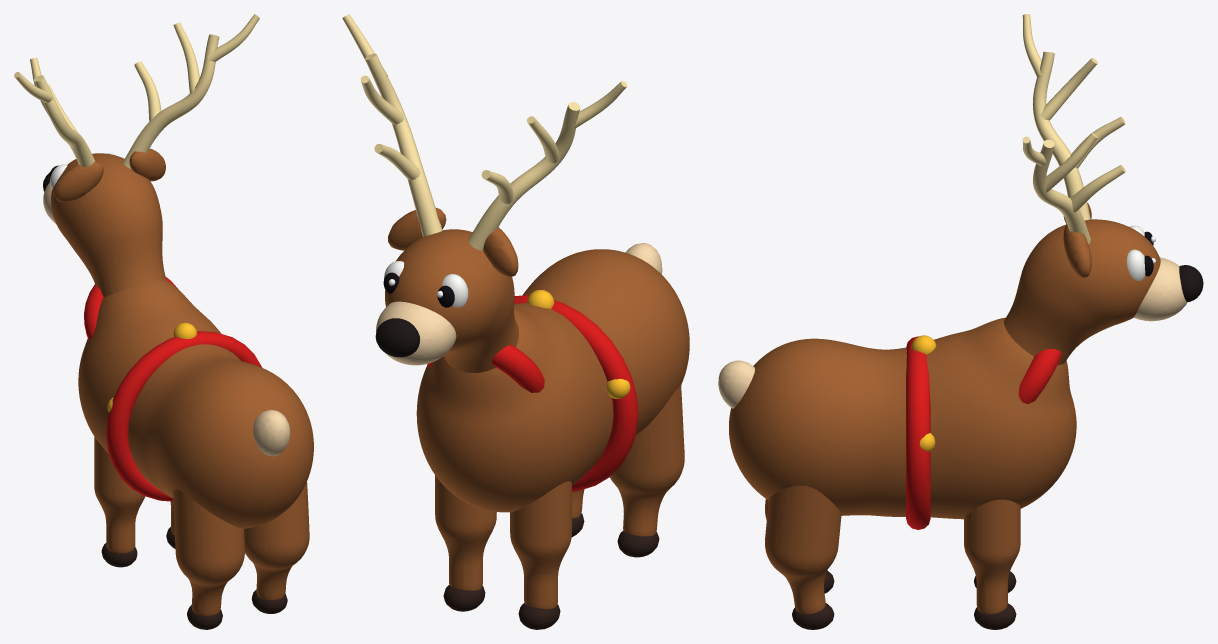
File: reindeer.glb
3 views of the same model, side by side, from view 1: azimuth 30°, elevation 25°; view 2: azimuth 150°, elevation 25°; view 3: azimuth 270°, elevation 25° (orthographic). The views are drawn at different scales.
Visible parts, largest first — view 1: DeerBody, HeadMesh, LegBL, Harness, LegBR, LegFL, Antler.001, TailMesh, EarMeshL, Antler, EarMeshR, Tine.004 (+7 smaller); view 2: DeerBody, HeadMesh, LegBL, LegFL, Harness, LegFR, Antler.001, Antler, Muzzle, Collar, DeerNose, EarMeshL (+12 smaller); view 3: DeerBody, HeadMesh, LegBR, LegFR, Harness, Antler, Muzzle, Antler.001, Collar, TailMesh, EarMeshR, Tine.001 (+5 smaller).
Boxes of the visible parts, box(x1,y1,x2,y2) form: DeerBody: box(78, 280, 313, 528); HeadMesh: box(51, 153, 166, 297); LegBL: box(173, 489, 244, 615); Harness: box(106, 331, 262, 501); LegBR: box(244, 482, 309, 600); LegFL: box(94, 437, 145, 553); Antler.001: box(122, 34, 219, 168); TailMesh: box(253, 410, 290, 456); EarMeshL: box(53, 161, 103, 201); Antler: box(34, 75, 94, 166); EarMeshR: box(129, 148, 165, 181); Tine.004: box(173, 22, 199, 93); DeerBody: box(416, 249, 689, 512); HeadMesh: box(385, 229, 518, 372); LegBL: box(610, 385, 684, 536); LegFL: box(510, 481, 571, 608); Harness: box(514, 295, 638, 491); LegFR: box(435, 475, 496, 590); Antler.001: box(365, 53, 442, 236); Antler: box(468, 102, 580, 250); Muzzle: box(376, 301, 456, 365); Collar: box(427, 345, 544, 392); DeerNose: box(375, 318, 419, 357); EarMeshL: box(483, 227, 518, 276); DeerBody: box(729, 317, 1076, 519); HeadMesh: box(1004, 219, 1160, 364); LegBR: box(765, 485, 841, 614); LegFR: box(964, 499, 1020, 614); Harness: box(906, 336, 930, 529); Antler: box(1032, 51, 1090, 220); Muzzle: box(1134, 257, 1187, 321); Antler.001: box(1033, 139, 1090, 244); Collar: box(1018, 349, 1061, 403); TailMesh: box(718, 360, 754, 408); EarMeshR: box(1063, 225, 1091, 277); Tine.001: box(1040, 58, 1097, 120).
Size of the model in its own units: 1.06 by 2.08 by 1.71.
